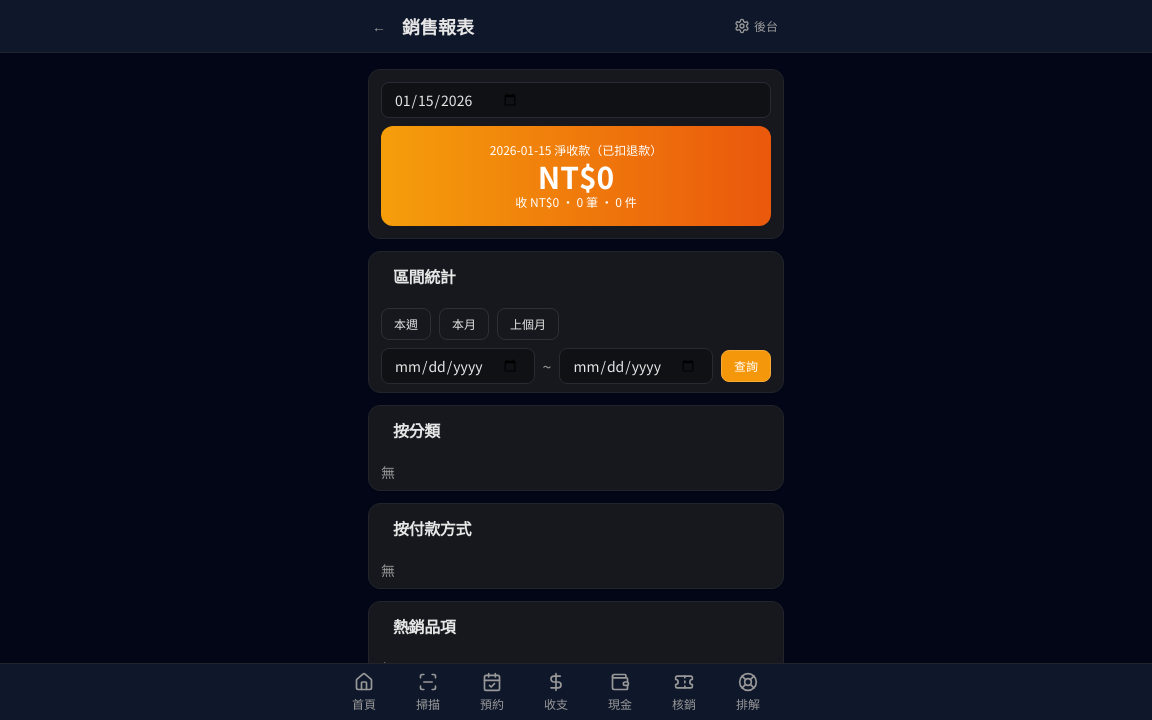
Test: PosReports — 區間統計 › 點「上個月」→ 以去年 12 月整月呼叫 API 並顯示標題
Click the button with test id "range-last-month": click(528, 324) [497,308,559,340]
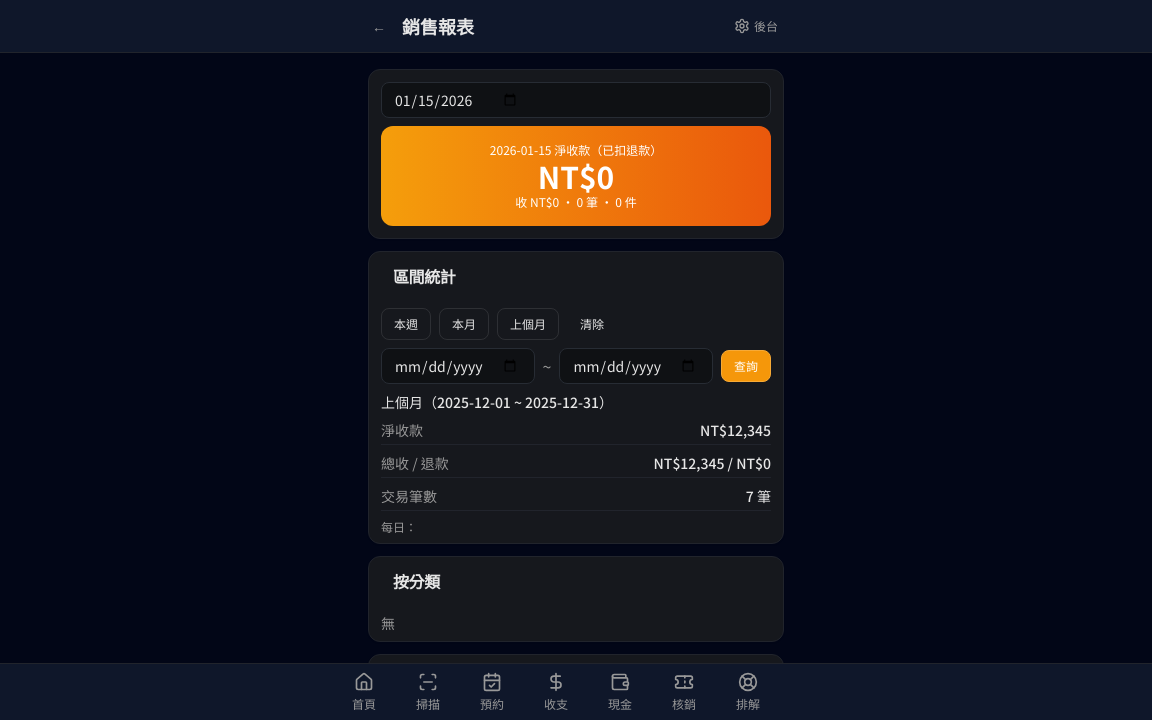
expect the text "上個月（2025-12-01 ~ 2025-12-31）" is shown: met, box [381,392,613,412]
expect the text "NT$12,345" is shown: met, box [700,420,771,440]
